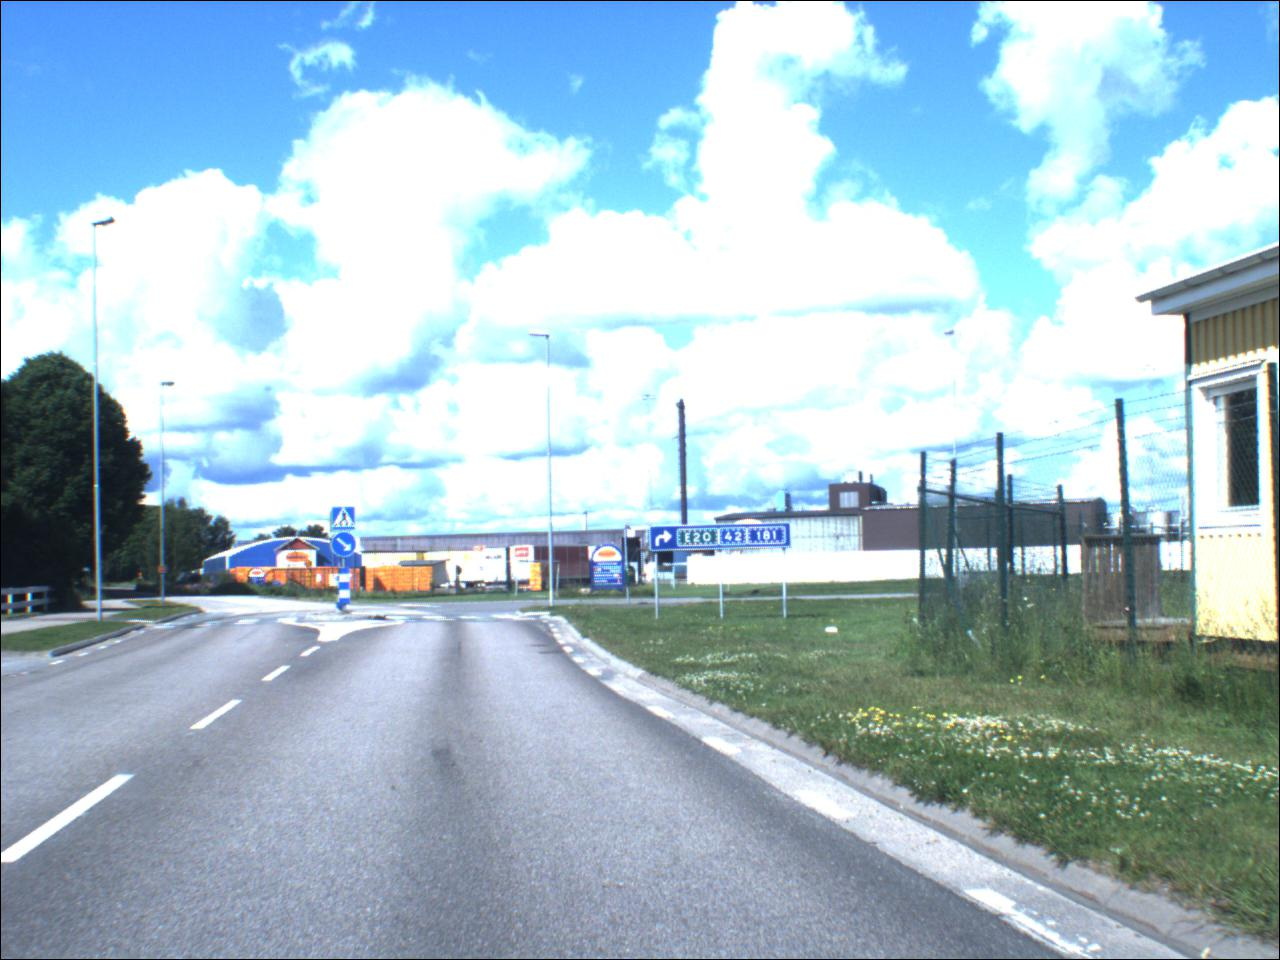PASS_RIGHT_SIDE: (331, 534, 359, 562)
PEDESTRIAN_CROSSING: (334, 509, 359, 534)
